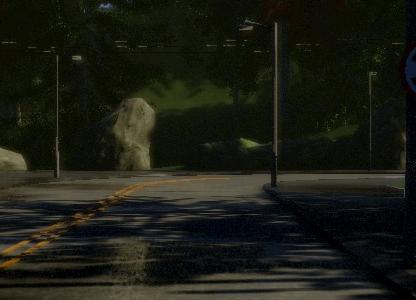Speed_30: (398, 29, 416, 109)
